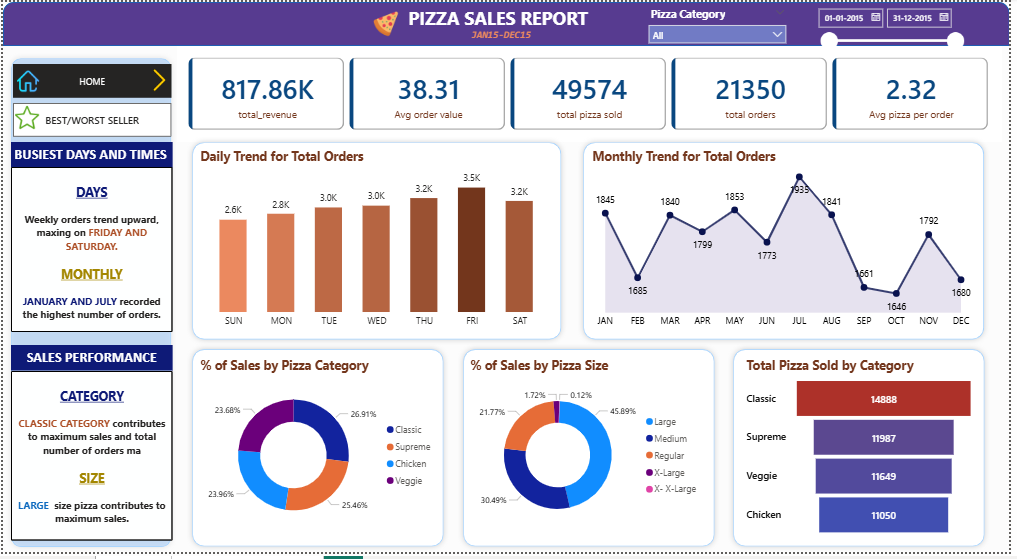

What the dashboard file says about the page in this screenshot:
{"tool":"powerbi","page":{"name":"HOME","canvas":[1500,820],"ordinal":0},"visuals":[{"type":"cardVisual","fields":{"Data":["portfolio pizza_sales.total_revenue","portfolio pizza_sales.Avg order value","portfolio pizza_sales.total pizza sold","portfolio pizza_sales.total orders","portfolio pizza_sales.Avg pizza per order"]},"box":[259.1,65.6,1230,142.7],"z":0},{"type":"shape","box":[0,0,1500.6,65.6],"z":1000},{"type":"textbox","box":[598.6,0,300.1,50.8],"z":2000},{"type":"textbox","box":[693.7,34.4,114.8,41],"z":3000},{"type":"image","box":[542.8,13.1,55.8,37.7],"z":4000},{"type":"shape","box":[273.9,201.7,565.8,310],"z":5000},{"type":"columnChart","title":"Daily Trend for Total Orders","fields":{"Category":["portfolio pizza_sales.order day"],"Y":["portfolio pizza_sales.total orders"]},"box":[288.6,218.1,536.3,275.5],"z":6000},{"type":"shape","box":[857.7,201.7,613.4,310],"z":7000},{"type":"areaChart","title":"Monthly Trend for Total Orders","fields":{"Y":["portfolio pizza_sales.total orders"],"Category":["portfolio pizza_sales.Order Month"]},"box":[874.1,218.1,578.9,275.5],"z":8000},{"type":"shape","box":[273.9,510,390.3,310],"z":9000},{"type":"shape","box":[679,510,390.3,310],"z":10000},{"type":"shape","box":[1080.8,510,390.3,310],"z":11000},{"type":"donutChart","title":"% of Sales by Pizza Category","fields":{"Category":["portfolio pizza_sales.pizza_category"],"Y":["portfolio pizza_sales.total_revenue"]},"box":[288.6,529.7,362.4,272.2],"z":12000},{"type":"donutChart","title":"% of Sales by Pizza Size","fields":{"Y":["portfolio pizza_sales.total_revenue"],"Category":["portfolio pizza_sales.pizza_size"]},"box":[692.1,529.7,355.9,272.2],"z":13000},{"type":"funnel","title":"Total Pizza Sold by Category","fields":{"Y":["portfolio pizza_sales.total pizza sold"],"Category":["portfolio pizza_sales.pizza_category"]},"box":[1103.7,529.7,349.3,272.2],"z":14000},{"type":"shape","box":[4.9,75.4,254.2,744.6],"z":15000},{"type":"textbox","box":[11.5,208.3,241.1,37.7],"z":16000},{"type":"textbox","box":[11.7,246.4,240.5,246.4],"z":17000},{"type":"textbox","box":[11.5,549.4,241.1,252.6],"z":18000},{"type":"textbox","box":[11.5,511.7,241.1,37.7],"z":19000},{"type":"slicer","fields":{"Values":["portfolio pizza_sales.pizza_category"]},"box":[952.8,1.6,224.7,60.7],"z":20000},{"type":"slicer","fields":{"Values":["portfolio pizza_sales.order_date"]},"box":[1203.8,0,237.8,72.2],"z":21000},{"type":"pageNavigator","box":[15.6,91.9,236.6,50.8],"z":21001},{"type":"pageNavigator","box":[15.6,150.6,236.6,50.8],"z":21002},{"type":"image","box":[205.3,99.7,54.8,33.2],"z":21003},{"type":"image","box":[21.5,91.9,33.2,50.8],"z":21004},{"type":"image","box":[17.9,143.1,35.8,58.1],"z":21005}]}

Visuals, with their boxes in screenshot pixels (x1, y1, x2, y2), scaled from the page's 1500x820 canvas onto the 1017x559 screenshot:
cardVisual - portfolio pizza_sales.total_revenue x portfolio pizza_sales.Avg order value: 176:45:1010:142
shape: 0:0:1016:45
textbox: 406:0:609:35
textbox: 470:23:548:51
image: 368:9:406:35
shape: 186:138:569:349
"Daily Trend for Total Orders" columnChart: 196:149:559:336
shape: 582:138:997:349
"Monthly Trend for Total Orders" areaChart: 593:149:985:336
shape: 186:348:450:558
shape: 460:348:725:558
shape: 733:348:997:558
"% of Sales by Pizza Category" donutChart: 196:361:441:547
"% of Sales by Pizza Size" donutChart: 469:361:711:547
"Total Pizza Sold by Category" funnel: 748:361:985:547
shape: 3:51:176:558
textbox: 8:142:171:168
textbox: 8:168:171:336
textbox: 8:375:171:547
textbox: 8:349:171:375
slicer - portfolio pizza_sales.pizza_category: 646:1:798:42
slicer - portfolio pizza_sales.order_date: 816:0:977:49
pageNavigator: 11:63:171:97
pageNavigator: 11:103:171:137
image: 139:68:176:91
image: 15:63:37:97
image: 12:98:36:137
